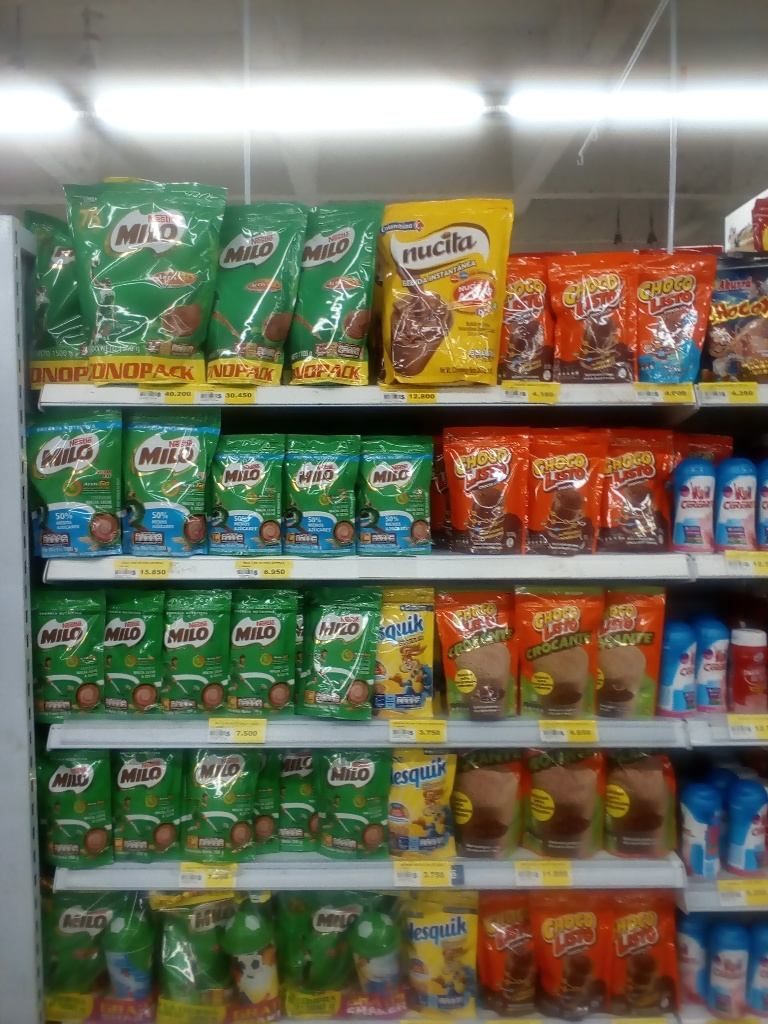COL0170102DYP25000: (593, 583, 668, 719)
COL0170102DYP50000: (606, 744, 684, 859)
COL0170103DYP20000: (543, 247, 644, 384)
COL0170104DYP20000: (634, 247, 710, 384)
COL0170203DYP25000: (301, 588, 385, 722)
COL0170203DYP50000: (273, 889, 358, 994)
COL0170205DYP20000: (357, 433, 438, 555)
COL0170205DYP50000: (121, 406, 221, 559)
COL0170303DYP20000: (370, 585, 439, 718)
